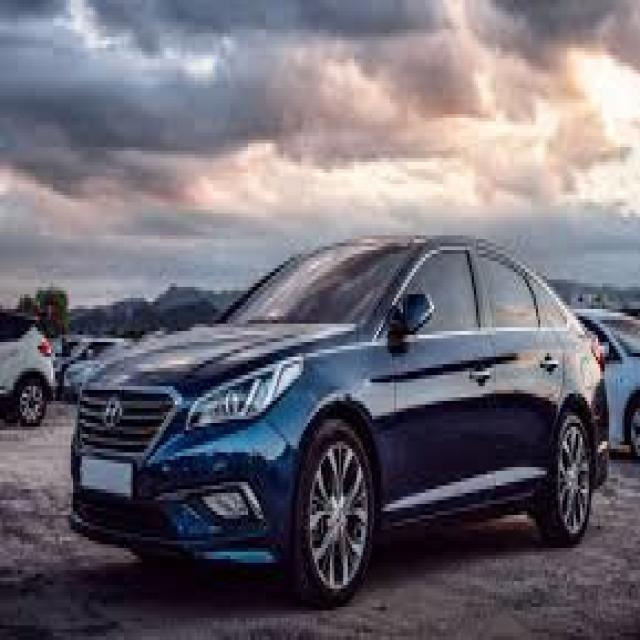car: (75, 232, 608, 558), (576, 298, 640, 453), (0, 317, 52, 431), (58, 331, 107, 396)
